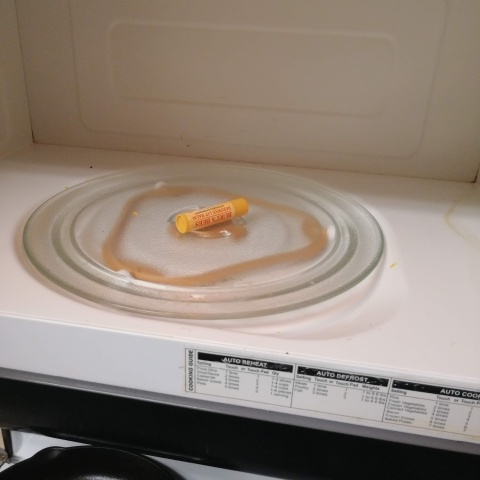chapstick: (175, 197, 250, 235)
